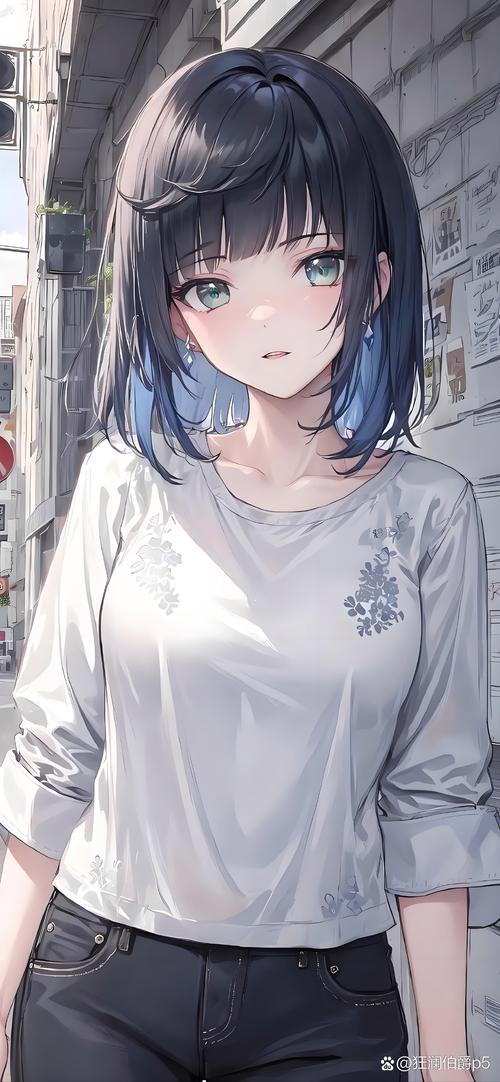夜兰: (1, 51, 487, 1082)
